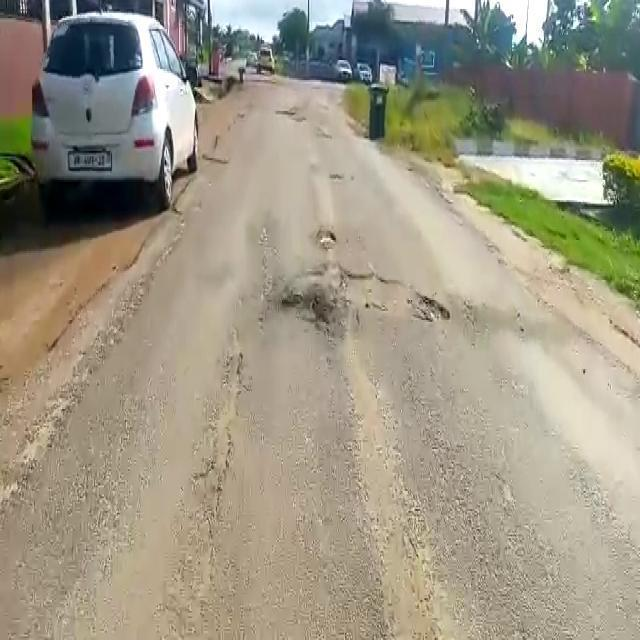pothole: (310, 267, 456, 324), (279, 284, 337, 336), (315, 230, 338, 251)
